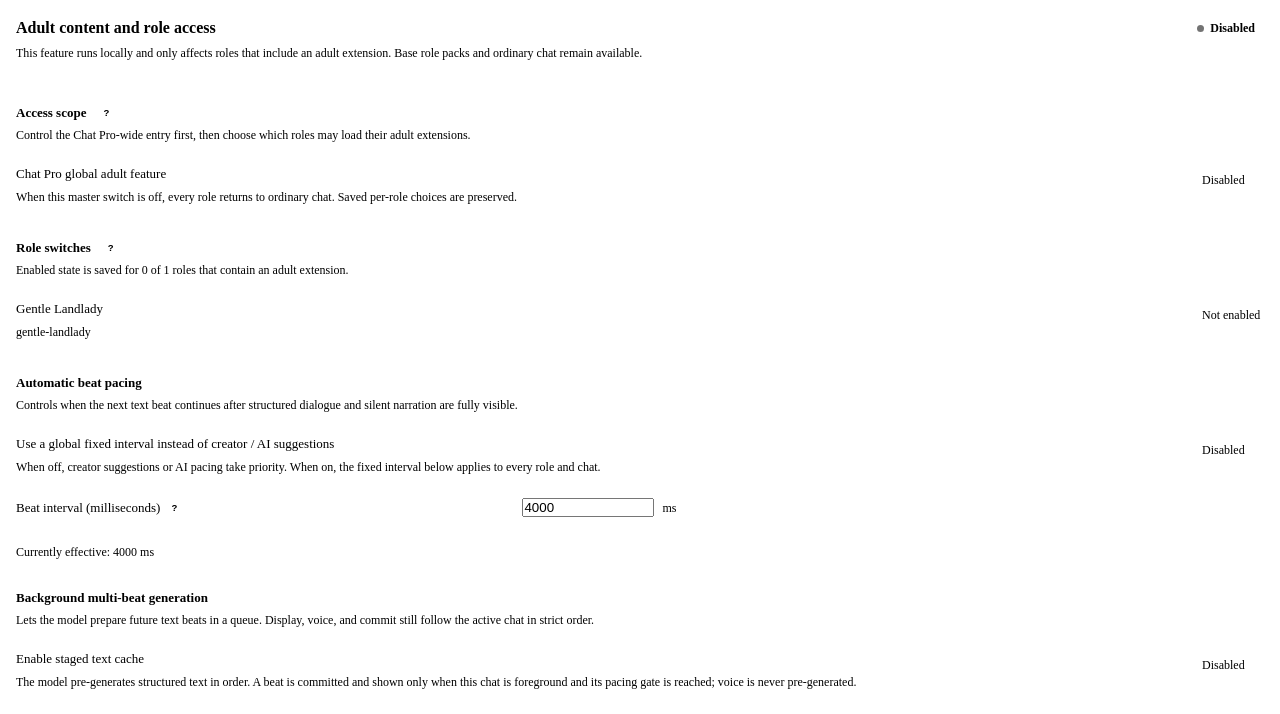
Test: adult settings controlled toggles › opens the adult feature explanation from the question-mark hint on hover
Hover over the element with class "help-hint" next to "Access scope" at (106, 113), box top-left (98, 104), bottom-right (115, 121)
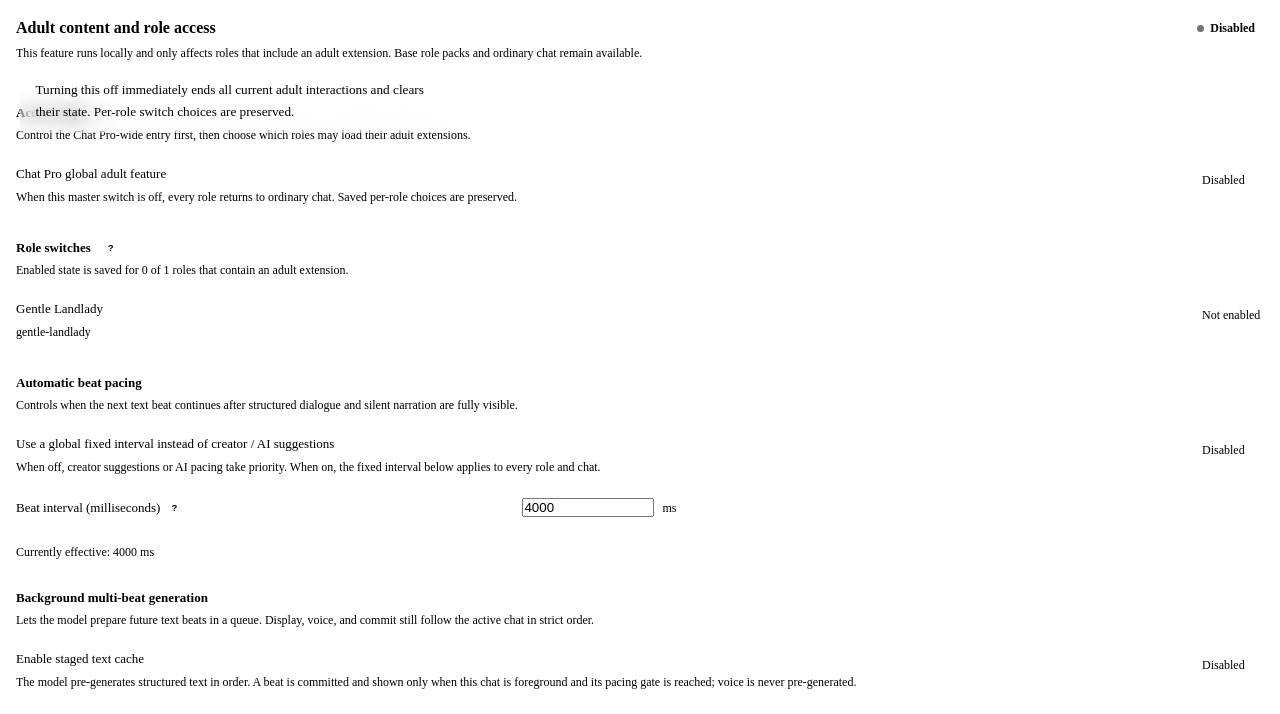
Check: the tooltip with class "help-pop" shows "immediately ends all current adult interactions", box top-left (35, 82), bottom-right (424, 119)
